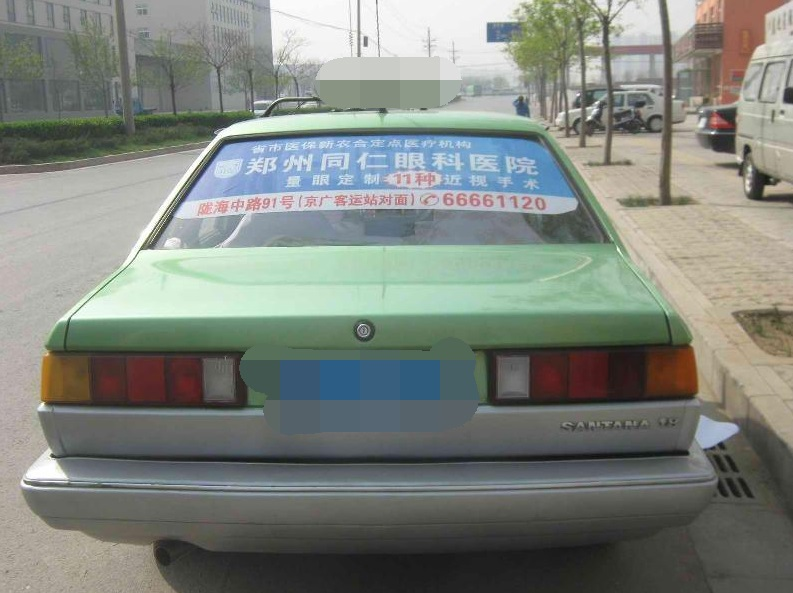taxi: (23, 51, 726, 569)
